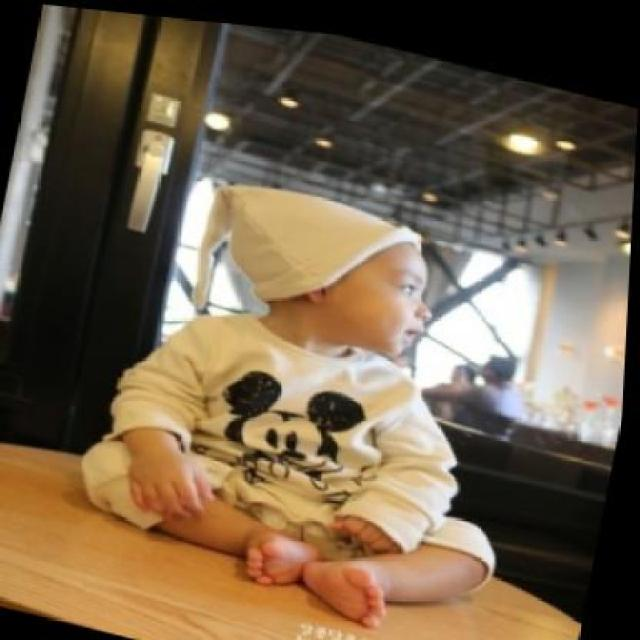hat: (184, 153, 430, 355)
